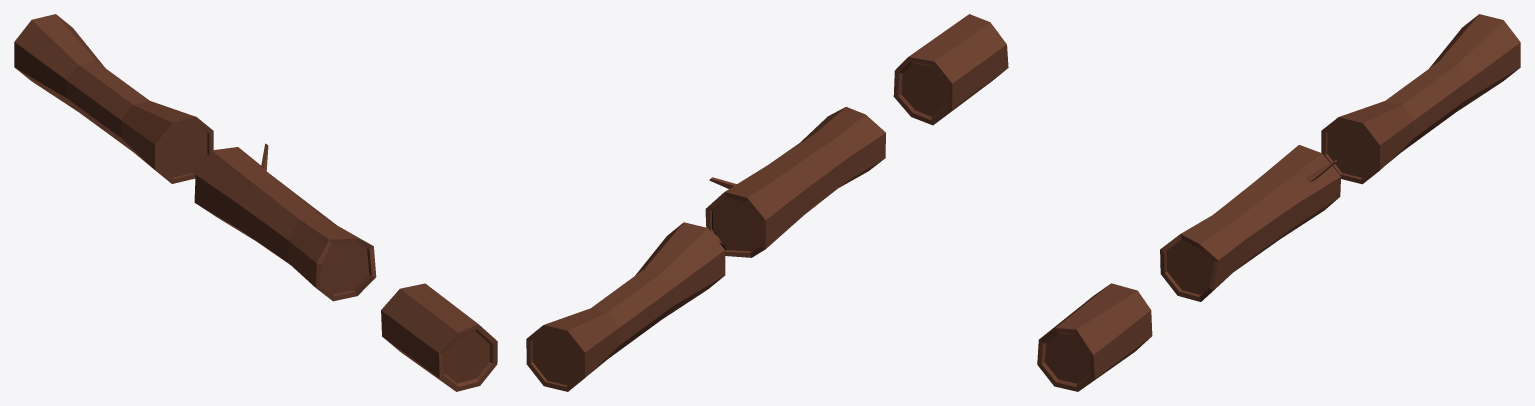
Rendered from Logs.fbx.
3 renders of one model, left to right at view 1: azimuth 30°, elevation 25°; view 2: azimuth 150°, elevation 25°; view 3: azimuth 330°, elevation 25°, orthographic.
Parts seen in each view (by area): view 1: Cylinder.001, Cylinder, Cylinder.002; view 2: Cylinder.001, Cylinder, Cylinder.002; view 3: Cylinder.001, Cylinder, Cylinder.002.
Boxes of the visible parts, x1,y1,x2,y2 form: Cylinder.001: (14,14,213,183); Cylinder: (194,143,376,301); Cylinder.002: (381,283,497,391); Cylinder.001: (526,222,725,391); Cylinder: (705,107,885,257); Cylinder.002: (893,14,1008,125); Cylinder.001: (1321,14,1520,184); Cylinder: (1160,145,1340,301); Cylinder.002: (1037,283,1152,391).
Size of the model in its own units: 203 by 202 by 2328.
